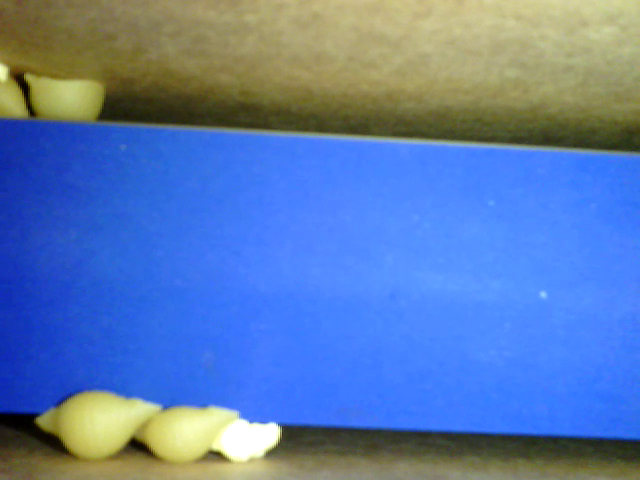shell: (34, 387, 162, 463), (132, 403, 244, 462), (23, 74, 106, 124), (1, 72, 32, 124)
